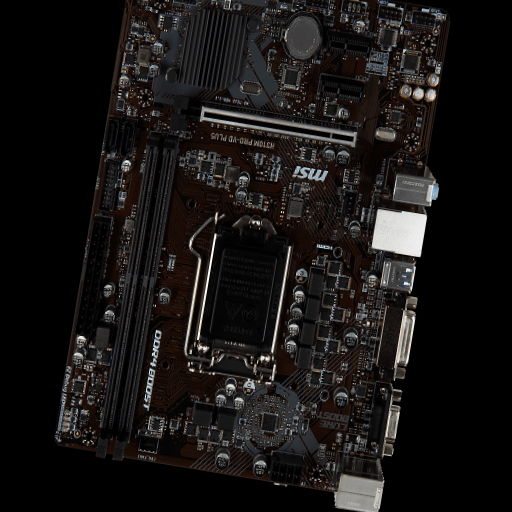CPU: (187, 215, 299, 382)
GPU: (180, 98, 358, 149)
MOTHERBOARD: (57, 4, 451, 495)
RAM: (95, 133, 182, 460)
